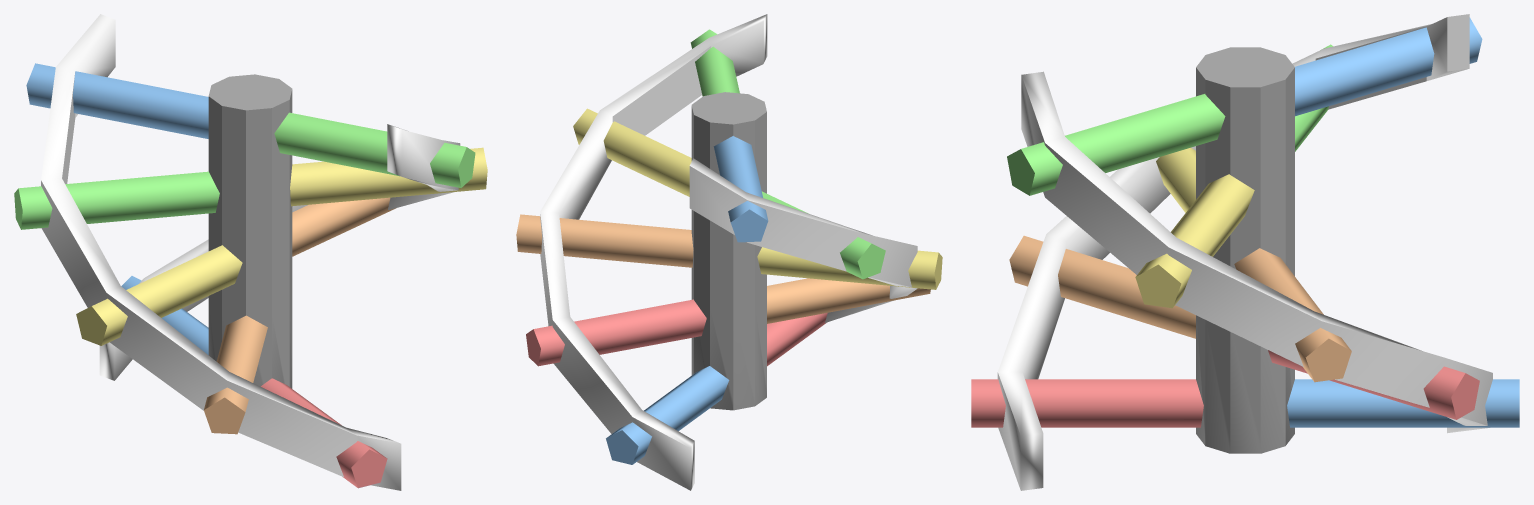
The model's file is DNA Model Part.fbx.
The picture shows the model from 3 angles, left to right: view 1: azimuth 30°, elevation 25°; view 2: azimuth 150°, elevation 25°; view 3: azimuth 270°, elevation 25°; orthographic projection. The views are drawn at different scales.
Visible parts, largest first — view 1: DNA_Model1; view 2: DNA_Model1; view 3: DNA_Model1.
Boxes of the visible parts, box(x1,y1,x2,y2) form: DNA_Model1: box(14, 14, 487, 490); DNA_Model1: box(516, 14, 942, 490); DNA_Model1: box(971, 14, 1519, 490).
Bounding box in the file's own units: 2.17 × 1.86 × 2.22.
